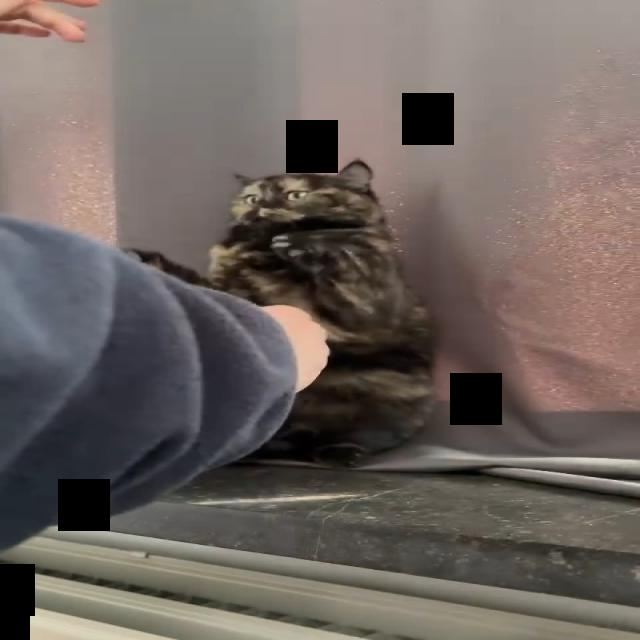authorized: (120, 157, 437, 466)
